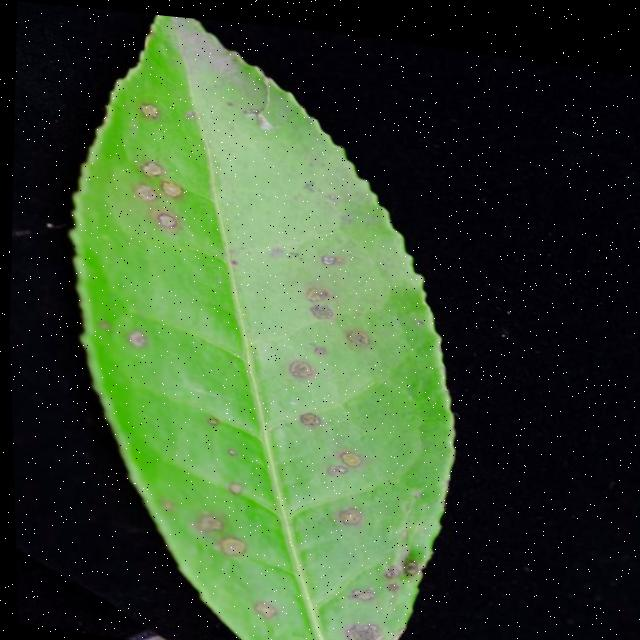Tea red rust: (77, 57, 466, 636)
